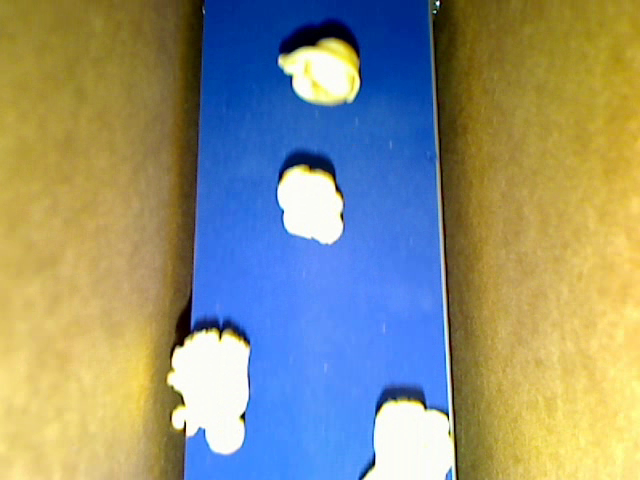tortellini: (277, 37, 360, 108)
